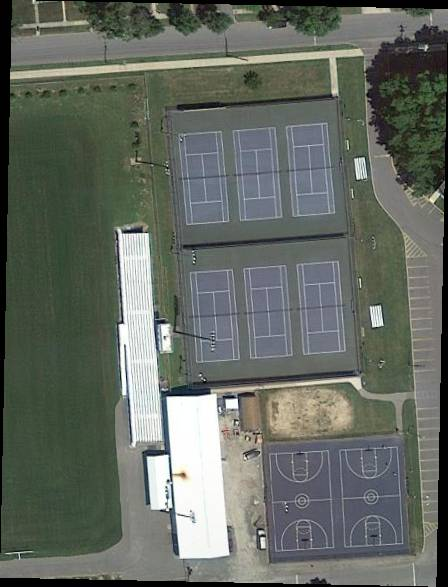basketball court: (271, 453, 336, 552), (342, 448, 404, 548)
tennis court: (287, 124, 337, 219), (234, 130, 285, 222), (192, 270, 241, 365), (181, 133, 231, 226), (245, 267, 294, 359), (299, 263, 347, 356)
